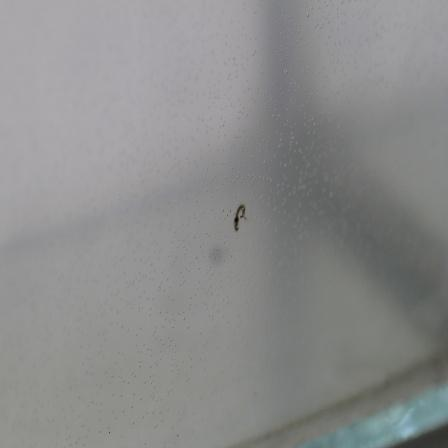Jentik-Nyamuk: (229, 201, 248, 235)
